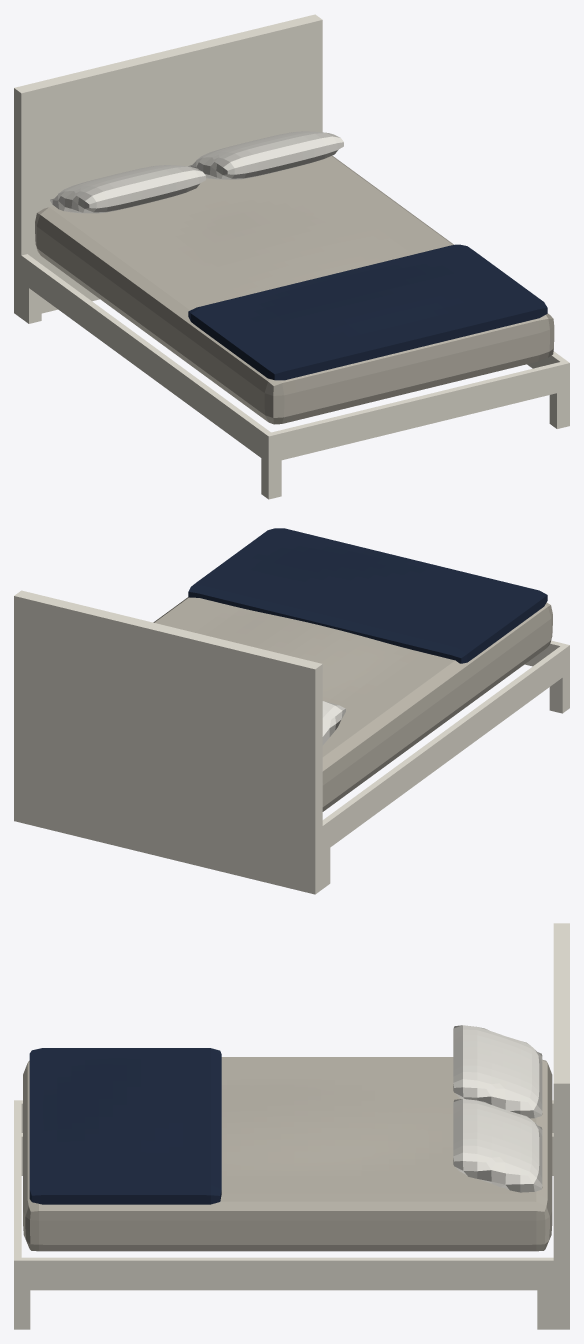
File: LIT-BED-double.glb
3 views of the same model, one above another, from view 1: azimuth 30°, elevation 25°; view 2: azimuth 150°, elevation 25°; view 3: azimuth 270°, elevation 25° (orthographic). The views are drawn at different scales.
Parts seen in each view (by area): view 1: mattress:pbr, head:pbr, throw:pbr, foot:pbr, rail-l:pbr, pillow-l:pbr, pillow-r:pbr, leg-fl:pbr, leg-fr:pbr, leg-hl:pbr; view 2: head:pbr, throw:pbr, mattress:pbr, rail-l:pbr, leg-fl:pbr, pillow-l:pbr; view 3: mattress:pbr, throw:pbr, rail-r:pbr, head:pbr, pillow-r:pbr, pillow-l:pbr, foot:pbr, leg-hr:pbr, leg-fr:pbr.
Boxes of the visible parts, <box> form: mattress:pbr: <box>35,155,554,424</box>; head:pbr: <box>14,14,322,317</box>; throw:pbr: <box>188,244,547,380</box>; foot:pbr: <box>271,362,563,461</box>; rail-l:pbr: <box>21,254,274,463</box>; pillow-l:pbr: <box>50,165,205,213</box>; pillow-r:pbr: <box>188,131,343,179</box>; leg-fl:pbr: <box>261,458,281,499</box>; leg-fr:pbr: <box>549,390,569,428</box>; leg-hl:pbr: <box>21,283,41,323</box>; head:pbr: <box>14,590,322,894</box>; throw:pbr: <box>188,528,547,663</box>; mattress:pbr: <box>153,597,552,811</box>; rail-l:pbr: <box>322,643,569,852</box>; leg-fl:pbr: <box>549,672,569,713</box>; pillow-l:pbr: <box>322,701,345,745</box>; mattress:pbr: <box>23,1057,552,1251</box>; throw:pbr: <box>29,1048,221,1204</box>; rail-r:pbr: <box>14,1257,553,1290</box>; head:pbr: <box>553,923,569,1329</box>; pillow-r:pbr: <box>453,1099,542,1192</box>; pillow-l:pbr: <box>453,1025,542,1118</box>; foot:pbr: <box>14,1103,21,1257</box>; leg-hr:pbr: <box>537,1290,553,1329</box>; leg-fr:pbr: <box>14,1290,30,1329</box>.
Bounding box in the file's own units: 1.4 × 1 × 2.05.
